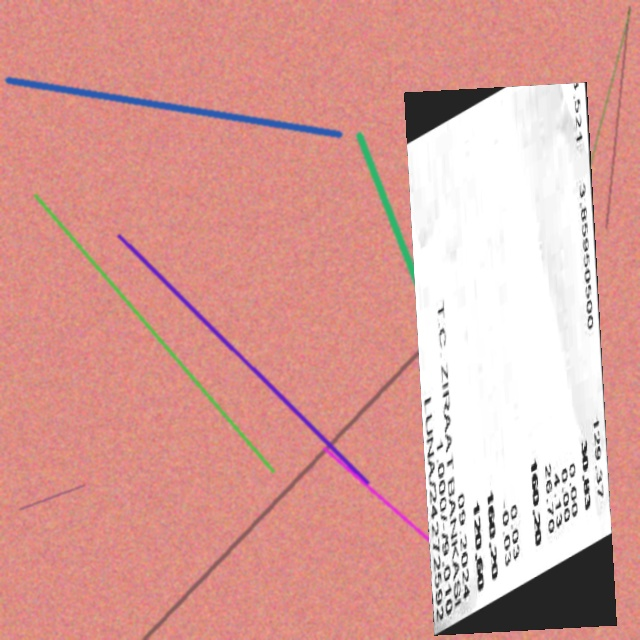electricity-bill: (403, 81, 617, 635)
